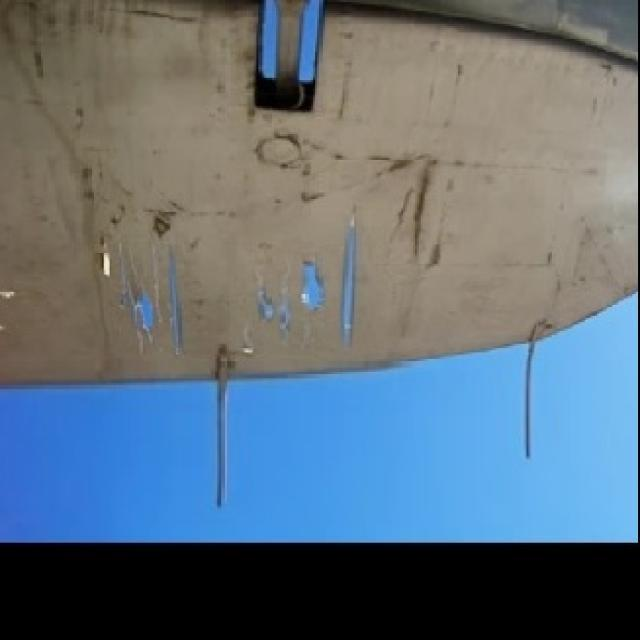crack: (116, 196, 369, 354)
